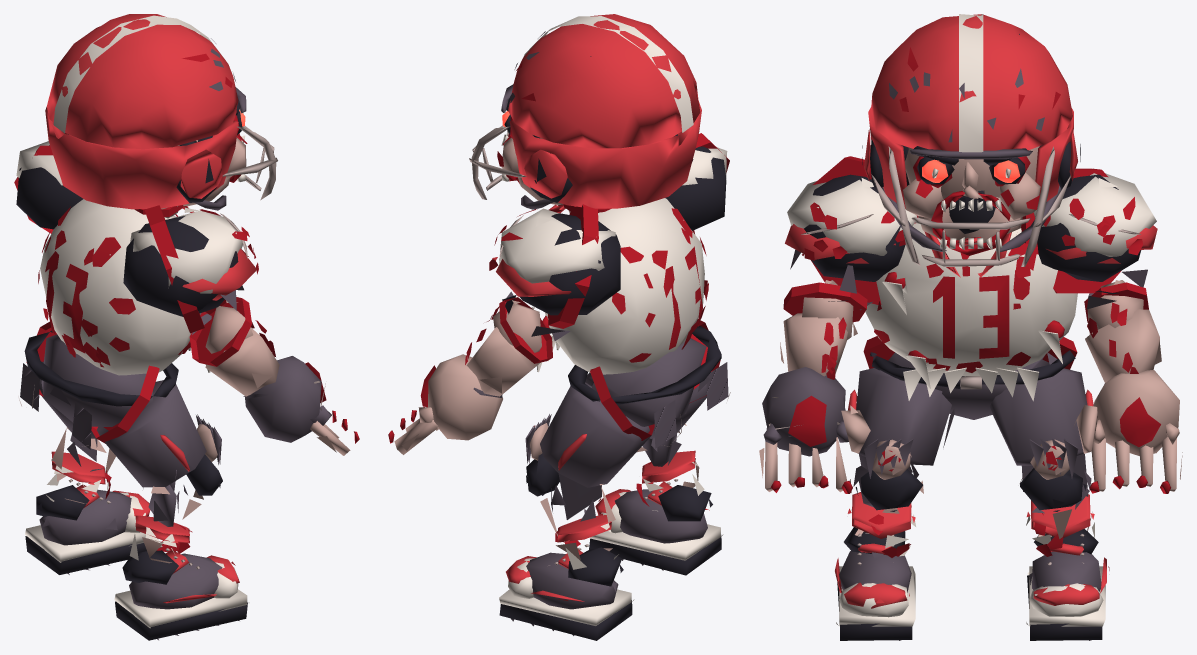
The picture shows the model from 3 angles, left to right: view 1: azimuth 30°, elevation 25°; view 2: azimuth 150°, elevation 25°; view 3: azimuth 270°, elevation 25°; orthographic projection. The views are drawn at different scales.
Visible parts, largest first — view 1: head, torso, armR, footR, footL, hip, legR, handR, foreArmR, shinR, armL, shinL (+3 smaller); view 2: head, torso, armL, footL, footR, hip, legL, handL, shinL, foreArmL, armR, shinR (+4 smaller); view 3: head, torso, armL, armR, handL, handR, legR, footR, legL, footL, foreArmL, shinL (+7 smaller).
Part boxes in pixels (left/top/right/bottom): head: left=45, top=14, right=277, bottom=218; torso: left=38, top=199, right=210, bottom=375; armR: left=123, top=207, right=258, bottom=334; footR: left=114, top=545, right=249, bottom=640; footL: left=25, top=479, right=157, bottom=574; hip: left=18, top=330, right=178, bottom=449; legR: left=97, top=380, right=221, bottom=487; handR: left=245, top=356, right=359, bottom=455; foreArmR: left=205, top=300, right=279, bottom=398; shinR: left=129, top=454, right=222, bottom=563; armL: left=16, top=141, right=82, bottom=229; shinL: left=46, top=427, right=115, bottom=503; head: left=469, top=14, right=701, bottom=213; torso: left=531, top=198, right=708, bottom=374; armL: left=489, top=208, right=620, bottom=340; footL: left=499, top=544, right=634, bottom=640; footR: left=589, top=479, right=723, bottom=575; hip: left=568, top=326, right=730, bottom=448; legL: left=525, top=382, right=651, bottom=487; handL: left=388, top=354, right=502, bottom=454; shinL: left=526, top=453, right=618, bottom=569; foreArmL: left=465, top=300, right=541, bottom=397; armR: left=665, top=146, right=727, bottom=230; shinR: left=636, top=423, right=704, bottom=511; head: left=862, top=14, right=1080, bottom=266; torso: left=865, top=223, right=1077, bottom=401; armL: left=1033, top=168, right=1157, bottom=309; armR: left=785, top=174, right=916, bottom=310; handL: left=1074, top=370, right=1182, bottom=493; handR: left=759, top=367, right=870, bottom=493; legR: left=848, top=368, right=954, bottom=479; footR: left=835, top=527, right=915, bottom=640; legL: left=989, top=368, right=1093, bottom=479; footL: left=1026, top=529, right=1109, bottom=640; foreArmL: left=1085, top=280, right=1161, bottom=382; shinL: left=1019, top=453, right=1094, bottom=556.
Bounding box in the file's own units: 0.7505 × 1.8 × 1.15.
